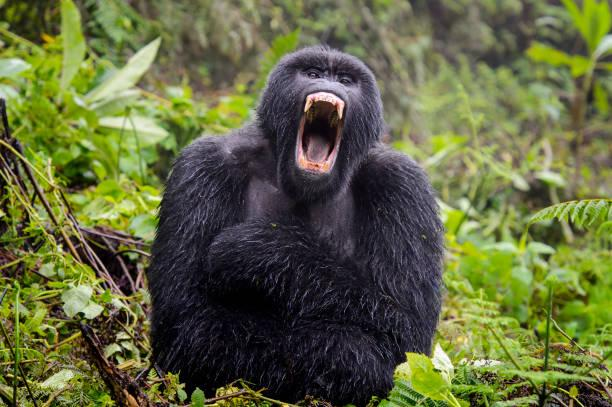goriile_montagne: (150, 6, 457, 402)
